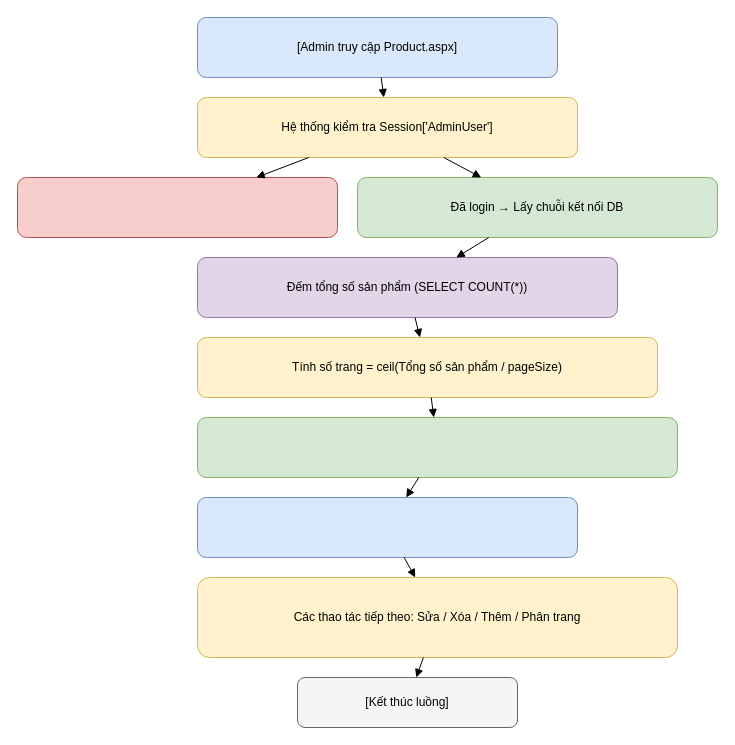
Some shapes in this 735 by 745 pixel diagram are drawn without their labels. The shapes that lost their labels are listed below. From the top down, each one's centre as x and y in pixels, then its label:
At [177,207]: "Chưa login → Redirect Login.aspx".
At [437,447]: "Lấy danh sách sản phẩm theo trang (OFFSET - FETCH)".
At [387,527]: "Hiển thị GridView + Nút Sửa + Xóa".
